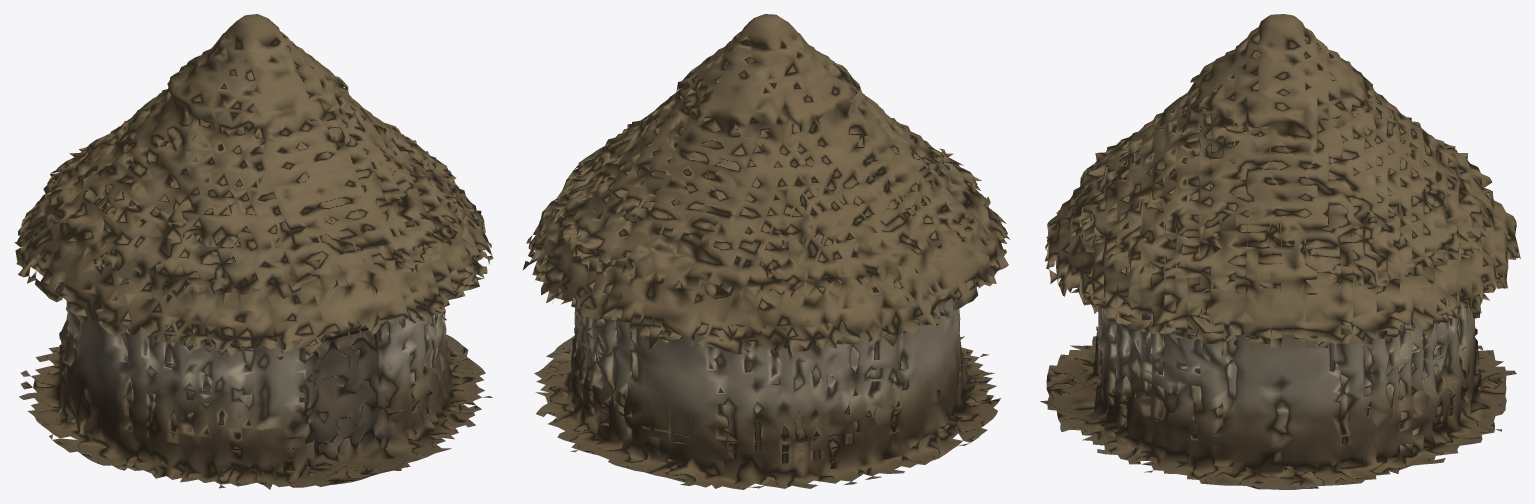
The model's file is haus_stroh.glb.
3 renders of one model, left to right at view 1: azimuth 30°, elevation 25°; view 2: azimuth 150°, elevation 25°; view 3: azimuth 270°, elevation 25°, orthographic.
Size of the model in its own units: 1.86 by 1.62 by 1.88.
